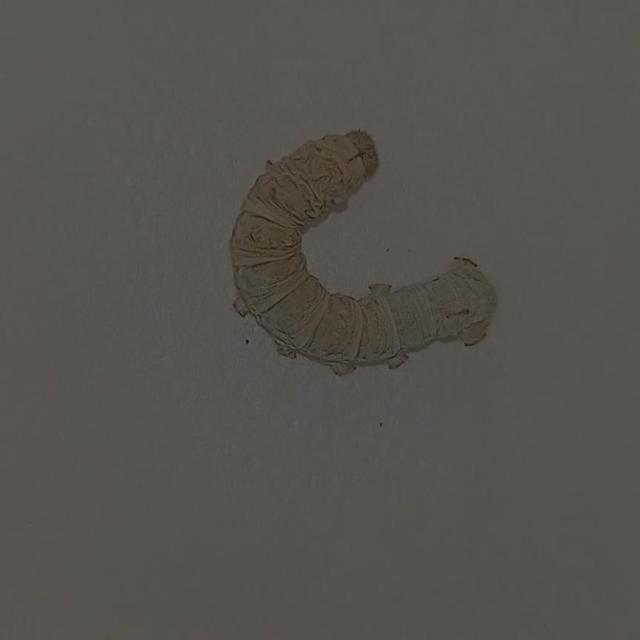Healthy: (205, 106, 528, 394)
